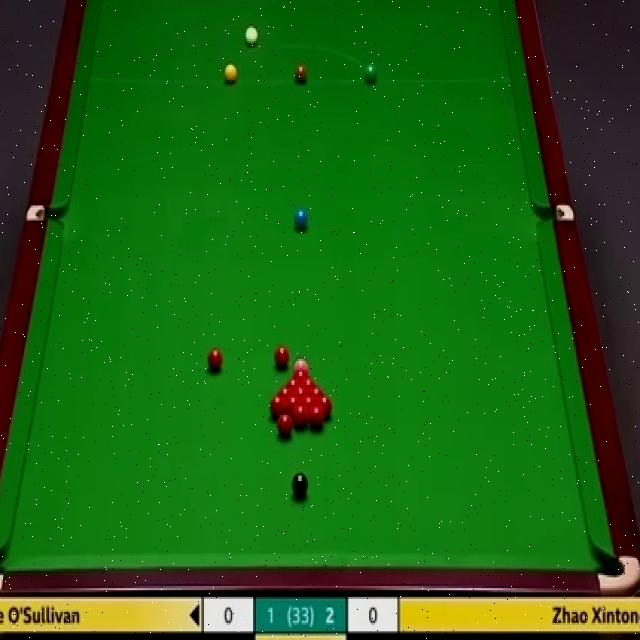black-ball: (291, 472, 309, 498)
blue-ball: (293, 207, 309, 231)
brown-ball: (294, 64, 308, 84)
green-ball: (364, 62, 377, 84)
pink-ball: (294, 356, 310, 371)
red-ball: (206, 347, 222, 373), (293, 404, 310, 428), (273, 346, 290, 370), (270, 396, 286, 420), (309, 405, 324, 430), (277, 414, 292, 438), (316, 396, 331, 417), (300, 377, 316, 392), (300, 396, 317, 410), (277, 386, 294, 399), (309, 386, 324, 400), (286, 396, 299, 411), (293, 387, 308, 400), (285, 378, 303, 387), (293, 369, 308, 379)
white-ball: (244, 25, 259, 46)
yellow-ball: (224, 61, 237, 84)
